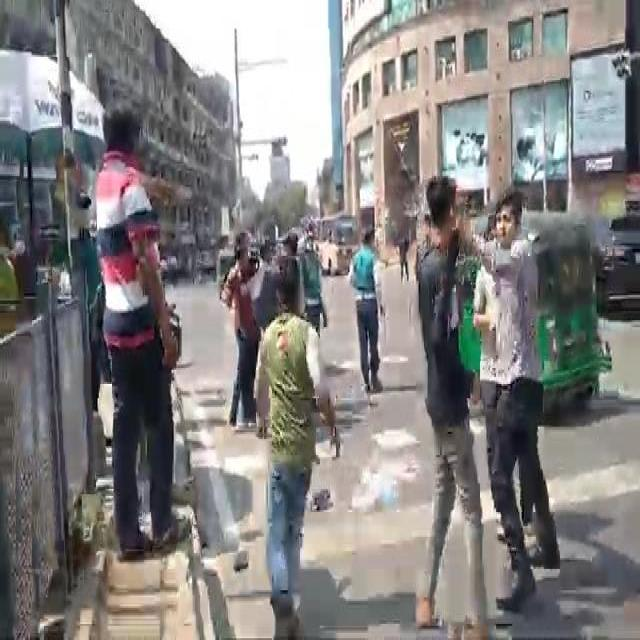fight: (405, 146, 589, 636), (72, 79, 191, 593), (215, 193, 349, 420)
